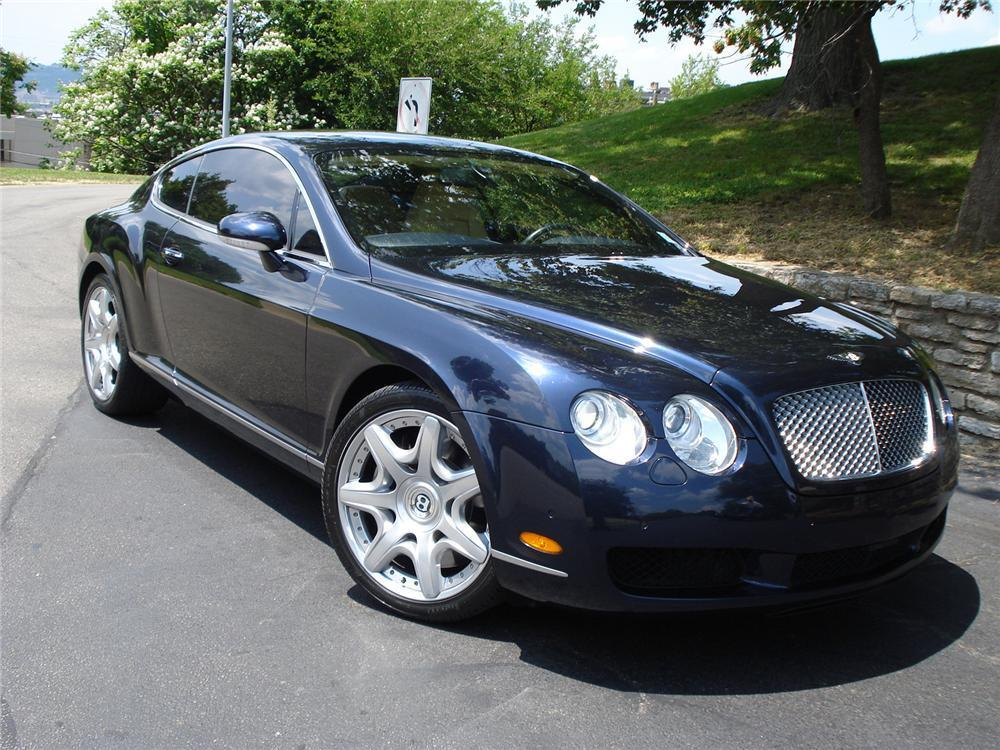Car: (56, 86, 1000, 702)
